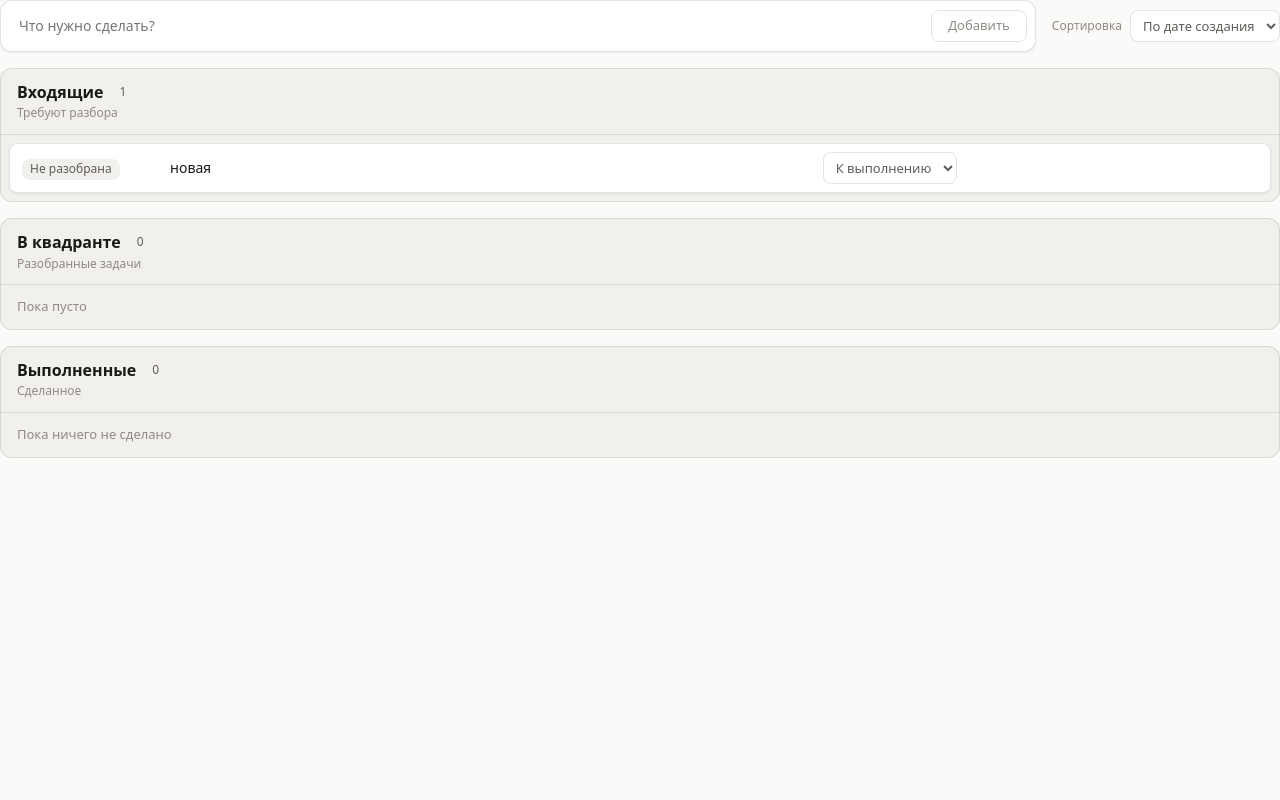
Test: открытие окна со строки › CONTROLS_REACHABLE_MOBILE: окно показывает статус, признаки и удаление
Click the element "новая" at (640, 168), box left=9, top=143, right=1271, bottom=193
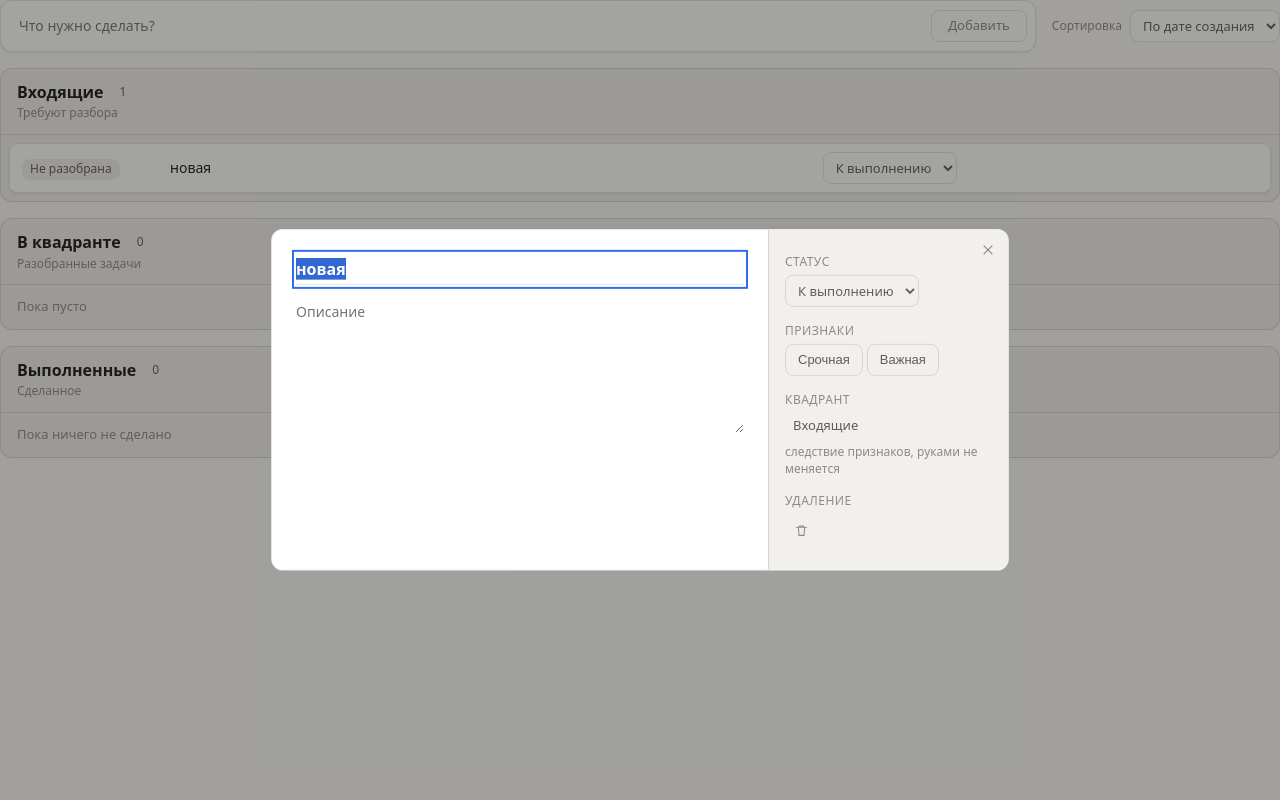
Result: the dropdown named "Статус" is shown at left=785, top=275, right=919, bottom=307
Result: the button "Срочная" is shown at left=785, top=344, right=863, bottom=376
Result: the button "Важная" is shown at left=867, top=344, right=939, bottom=376
